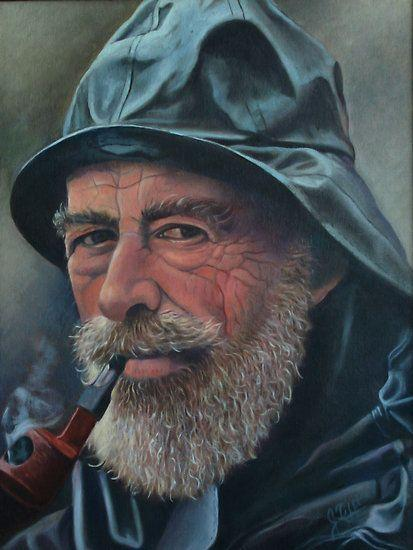trubka: (0, 352, 130, 511)
